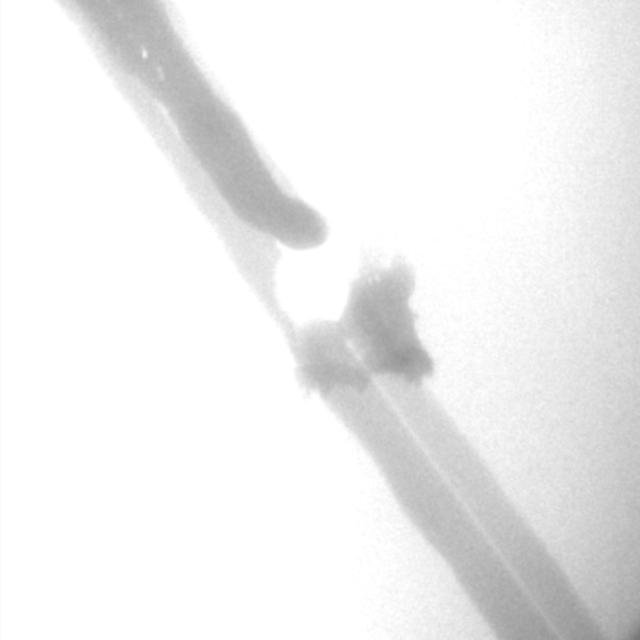air hole: (139, 48, 147, 60)
broken arc: (147, 92, 559, 634)
